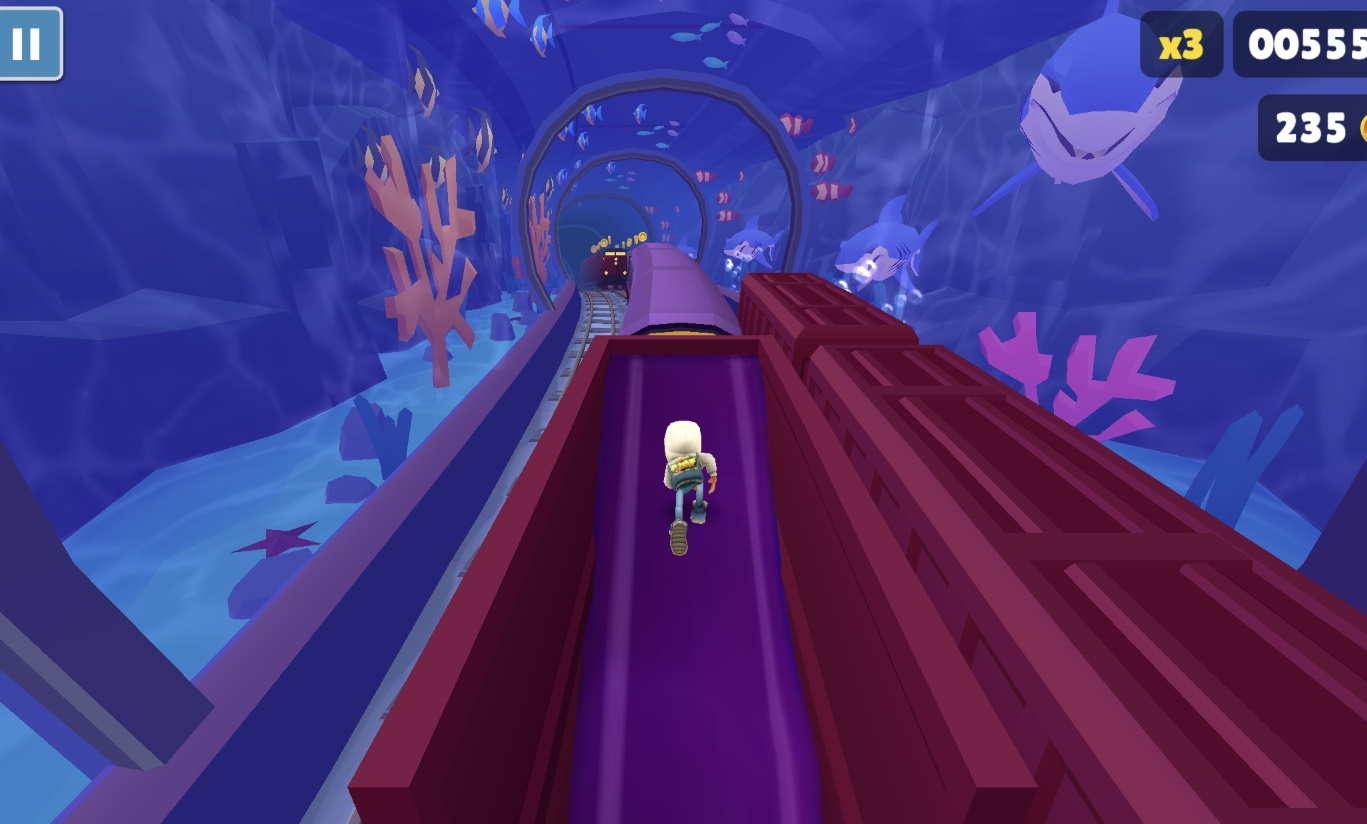train: (349, 245, 1038, 824), (734, 272, 1367, 824), (589, 248, 632, 295)
